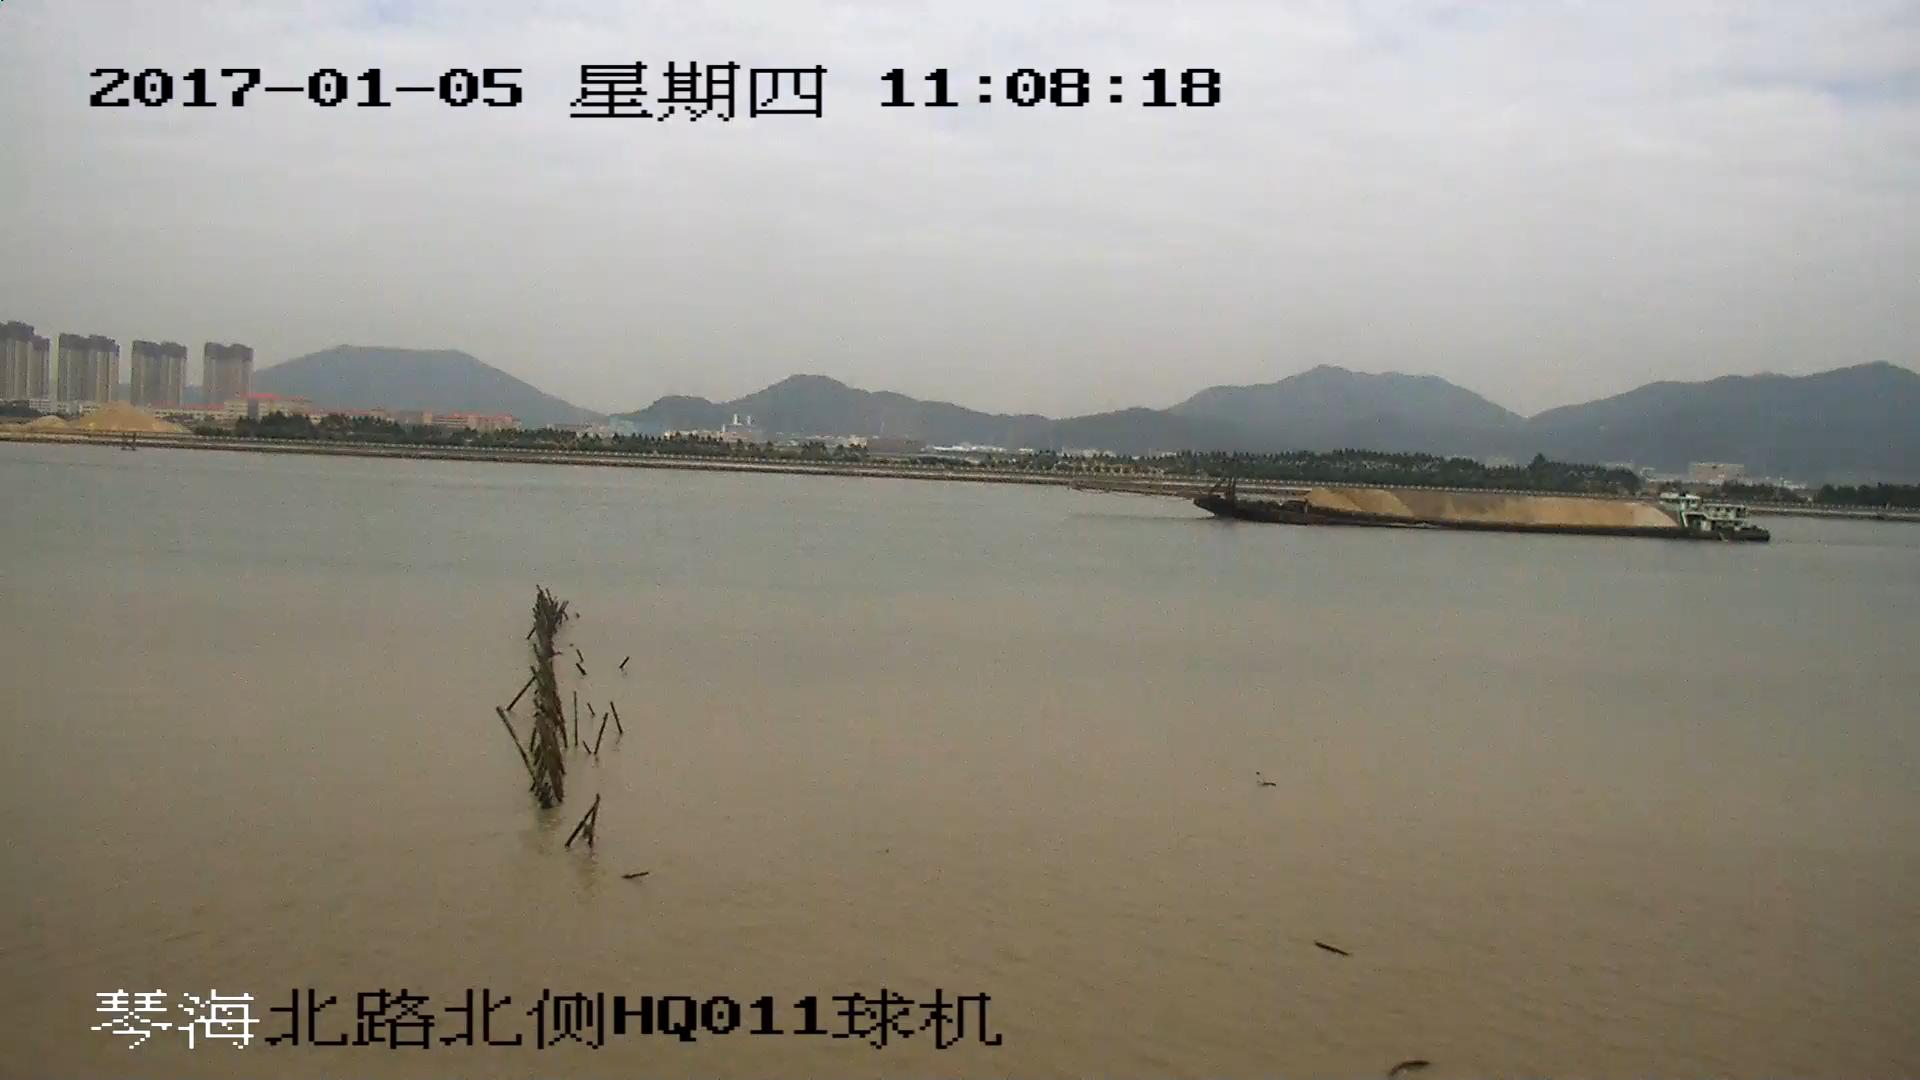ore carrier: (1104, 458, 1772, 546)
